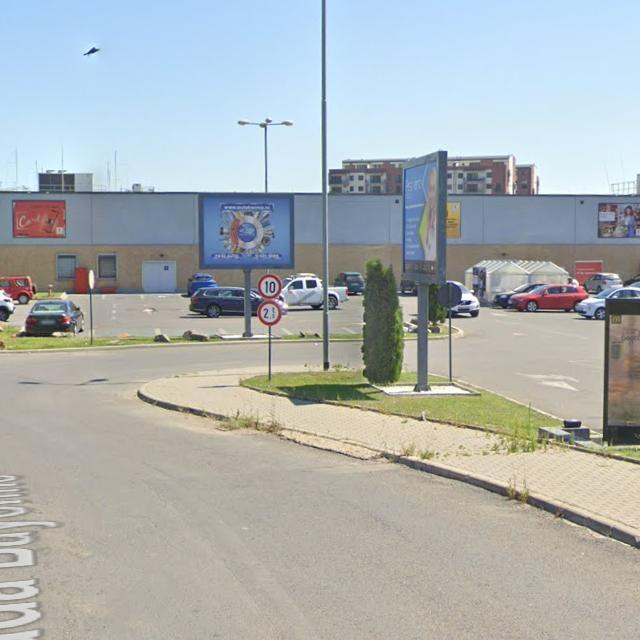forb_speed_over_10: (258, 274, 282, 300)
